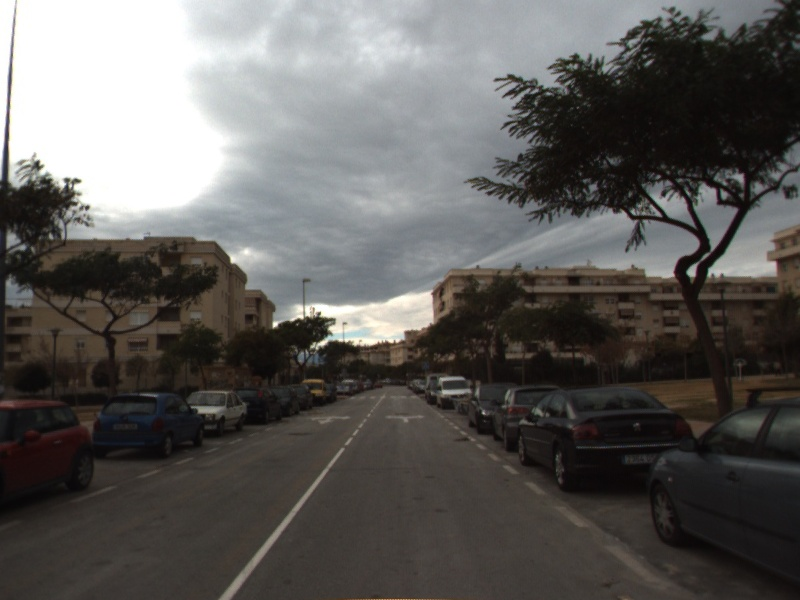LEFT_RIGHT: (383, 411, 427, 424)
